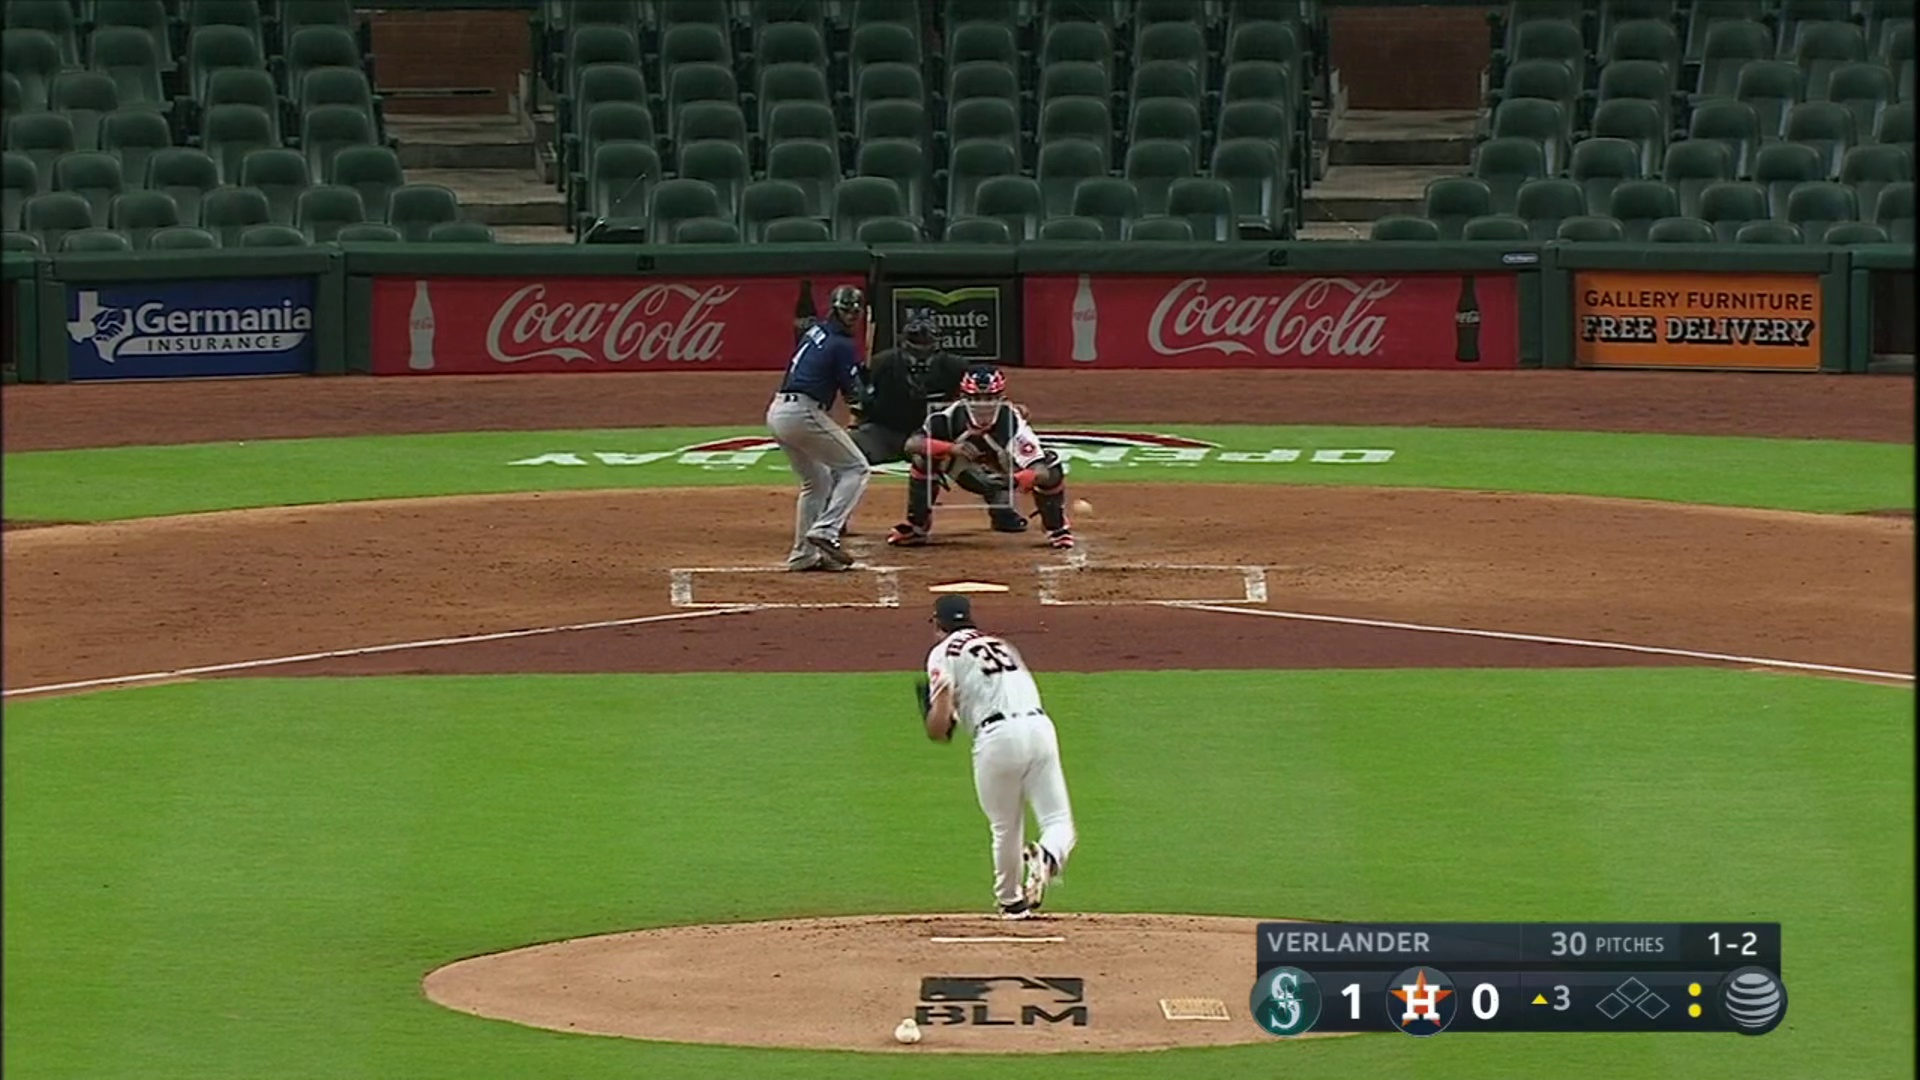baseball: (1072, 497, 1091, 516)
